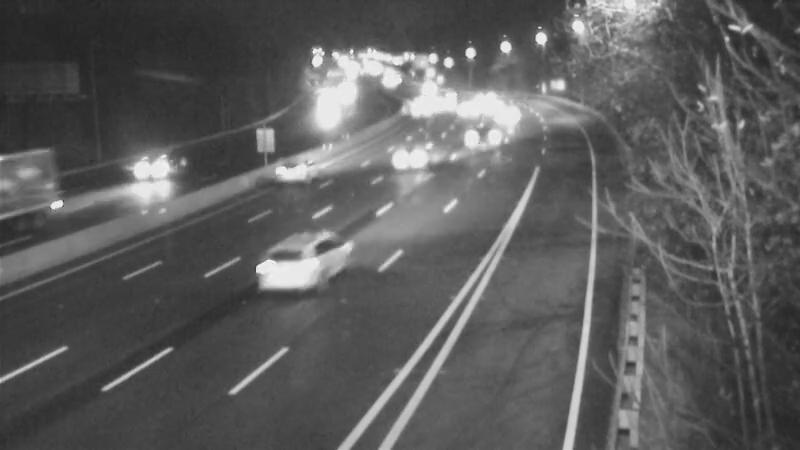vehicle: (373, 118, 453, 198), (260, 132, 340, 212), (248, 223, 328, 303), (107, 131, 187, 211), (1, 152, 72, 232), (451, 67, 501, 117), (440, 85, 490, 135), (397, 86, 447, 136), (481, 91, 531, 141), (455, 114, 505, 164)
